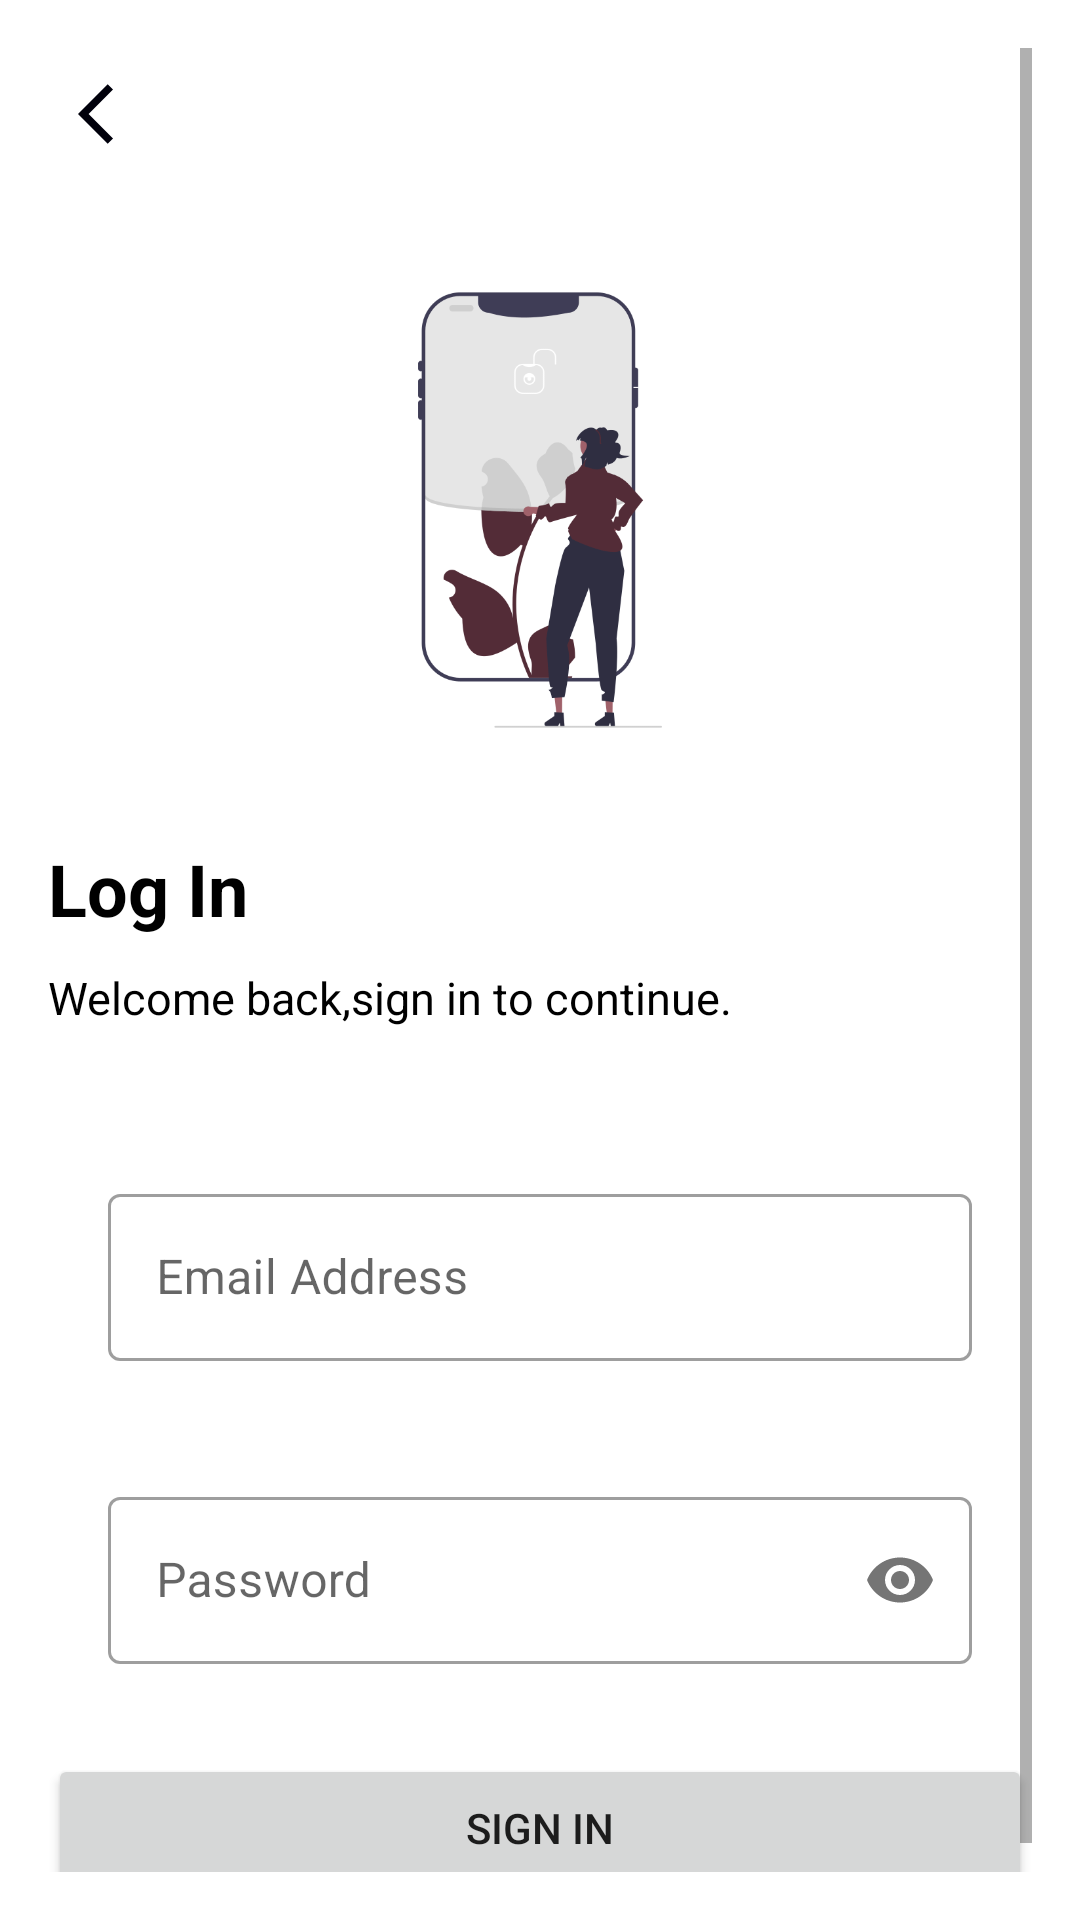

Icon bounding boxes for this 1080 × 1920 phone screenshot, format Rect(x1, y1, x2, y2):
arrow back: Rect(78, 84, 113, 144)
